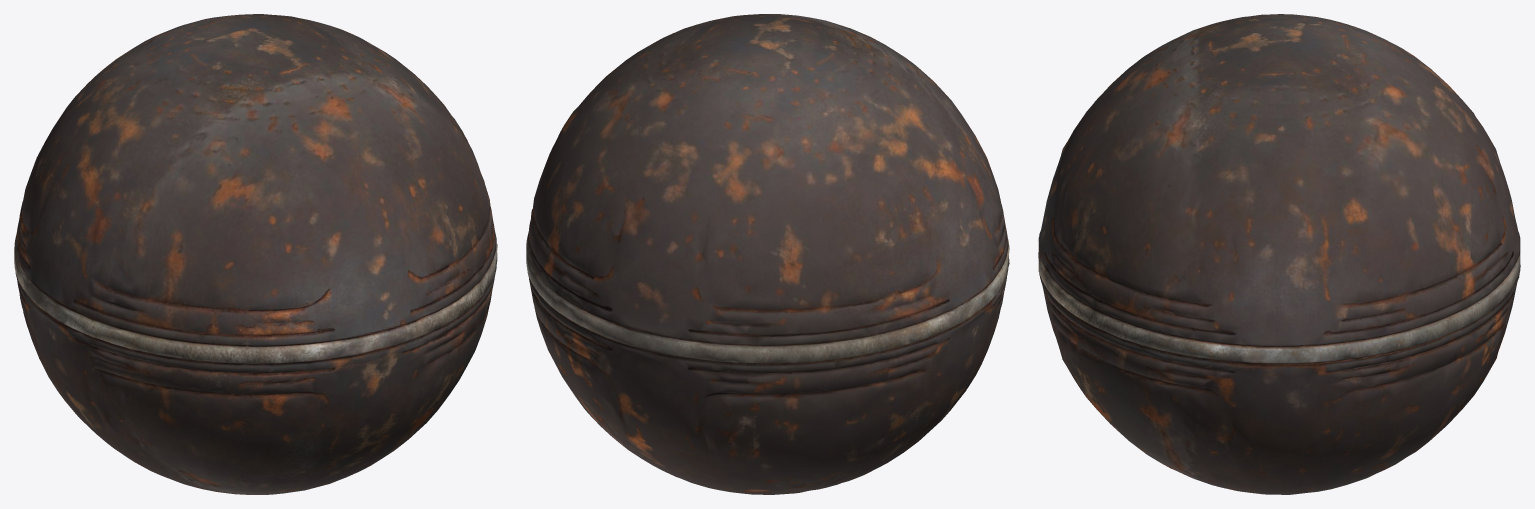
The model's file is cannonball_mediium_quality.glb.
3 views of the same model, side by side, from view 1: azimuth 30°, elevation 25°; view 2: azimuth 150°, elevation 25°; view 3: azimuth 270°, elevation 25° (orthographic).
Parts seen in each view (by area): view 1: Mesh1.0; view 2: Mesh1.0; view 3: Mesh1.0.
Part boxes in pixels (x1,y1,x2,y2): Mesh1.0: (14,14,497,494); Mesh1.0: (526,14,1009,494); Mesh1.0: (1038,14,1520,494).
Bounding box in the file's own units: 1.91 × 1.91 × 1.91.
Materials: 1 (1 with a texture image).
